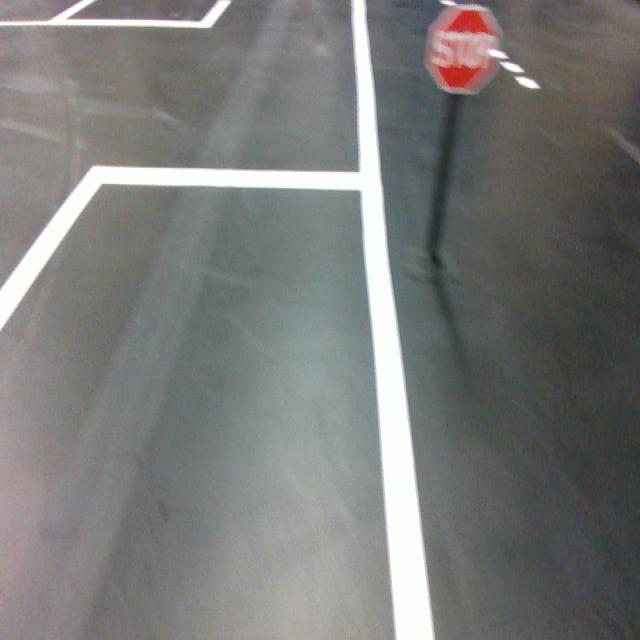stop-sign: (423, 3, 505, 96)
